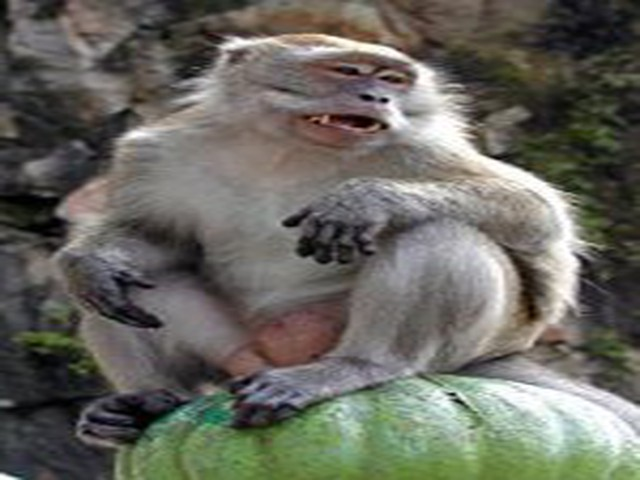Monkey: (57, 25, 583, 423)
